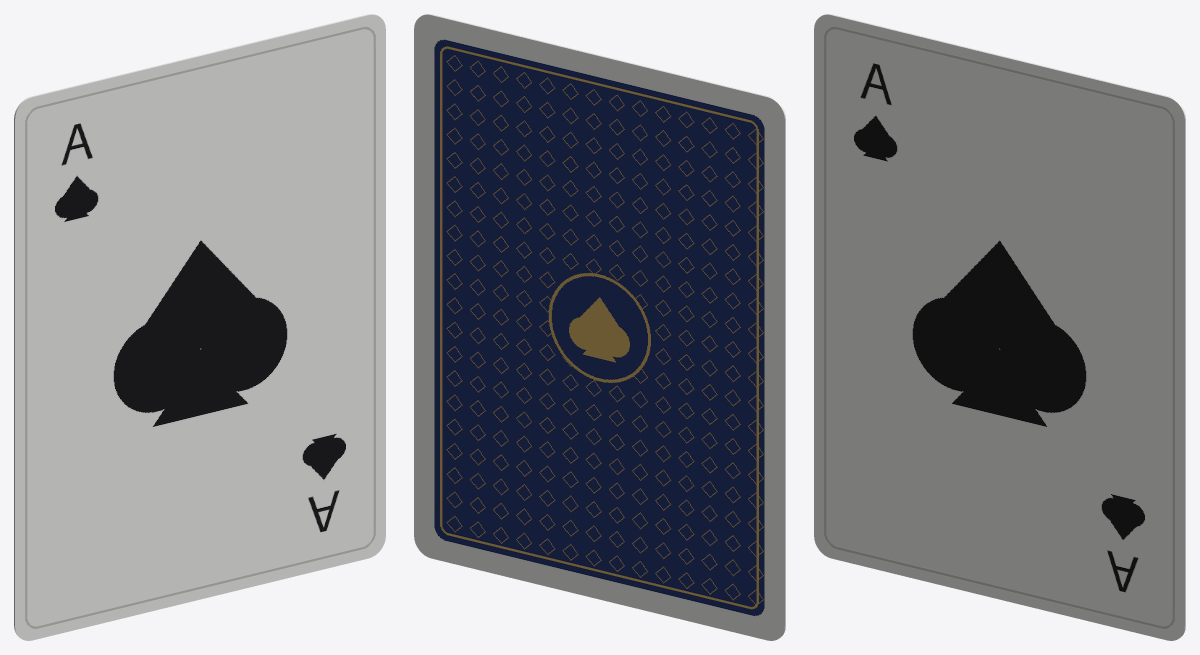
Rendered from card.glb.
The picture shows the model from 3 angles, left to right: view 1: azimuth 30°, elevation 25°; view 2: azimuth 150°, elevation 25°; view 3: azimuth 330°, elevation 25°; orthographic projection.
Visible parts, largest first — view 1: Card; view 2: Card; view 3: Card.
Part boxes in pixels (<box>): Card: <box>14,14,385,640</box>; Card: <box>414,14,785,640</box>; Card: <box>814,14,1185,640</box>.
Size of the model in its own units: 0.0635 by 0.0889 by 0.0003.
3 materials, 2 textured.
